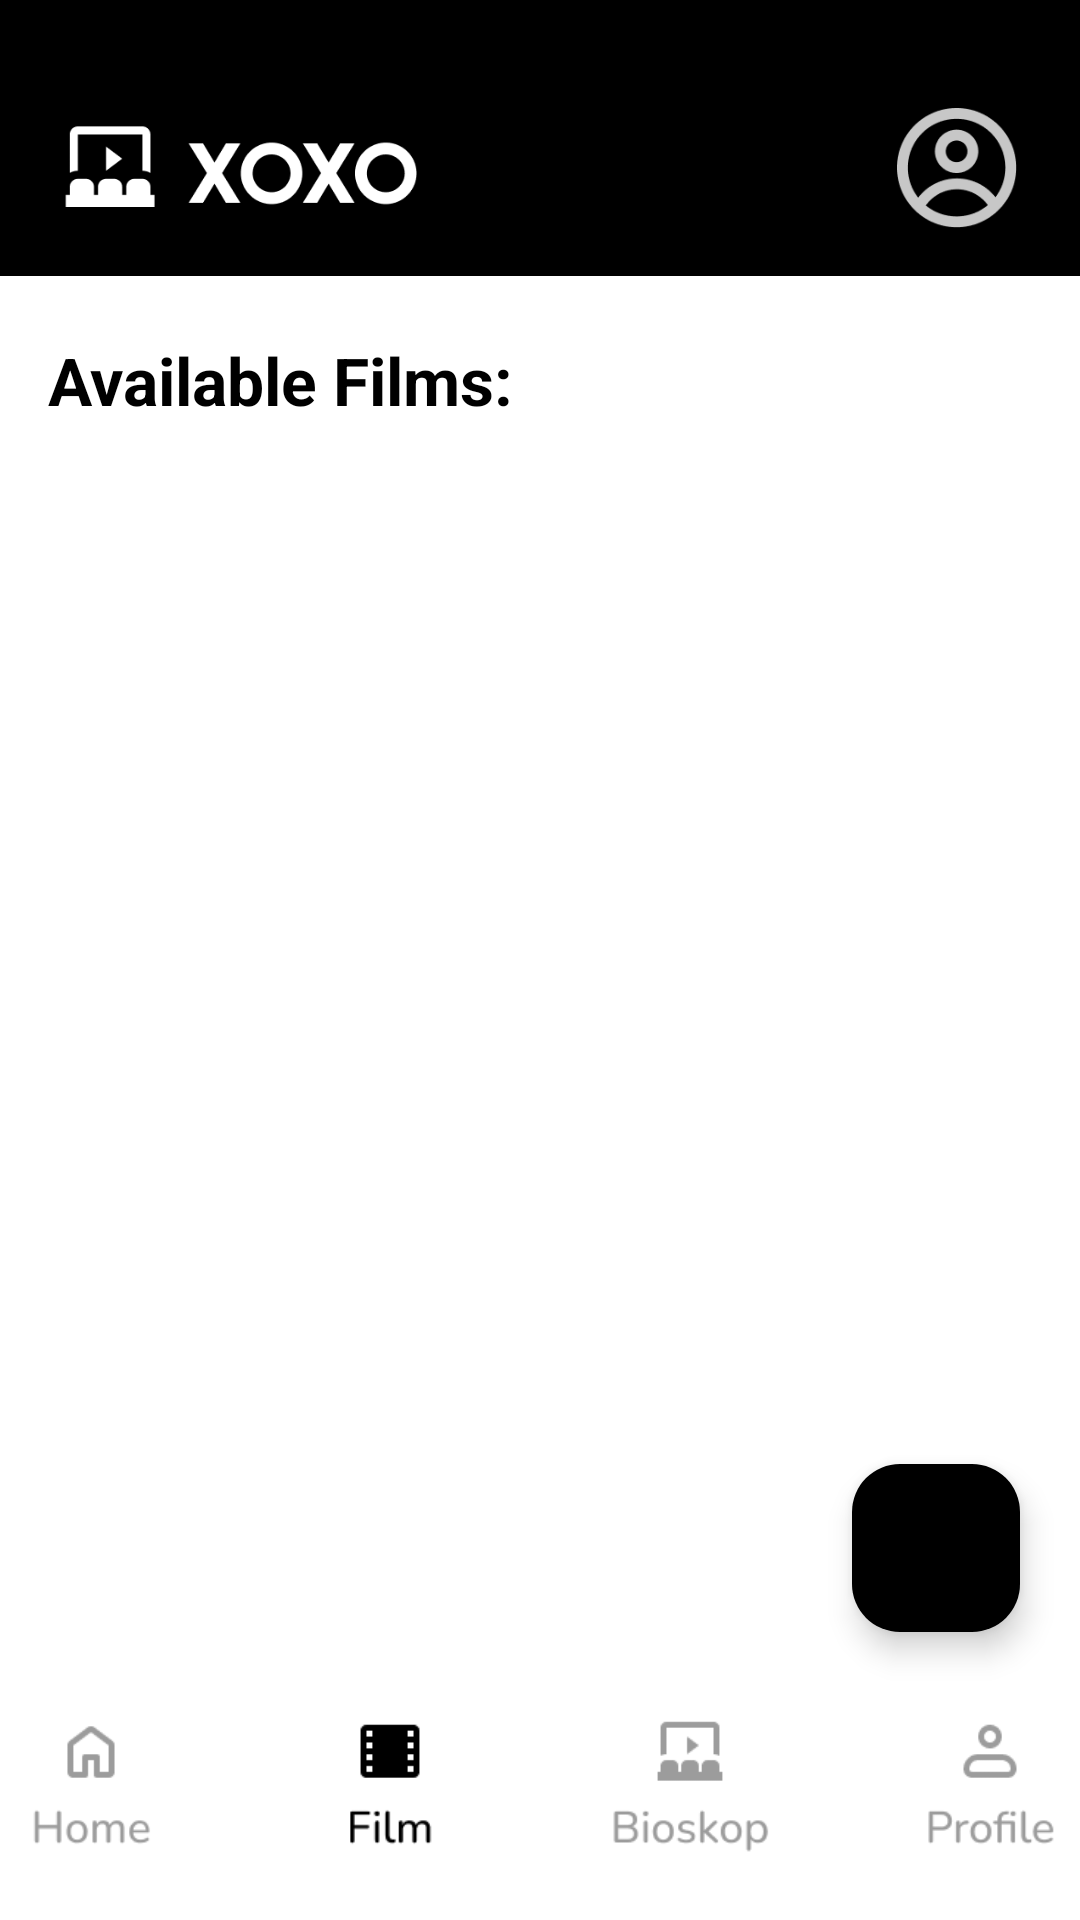

Named icons in this screenshot (1080px×1920px) and their centers, (x=x, y=y):
profile: (x=957, y=168)
